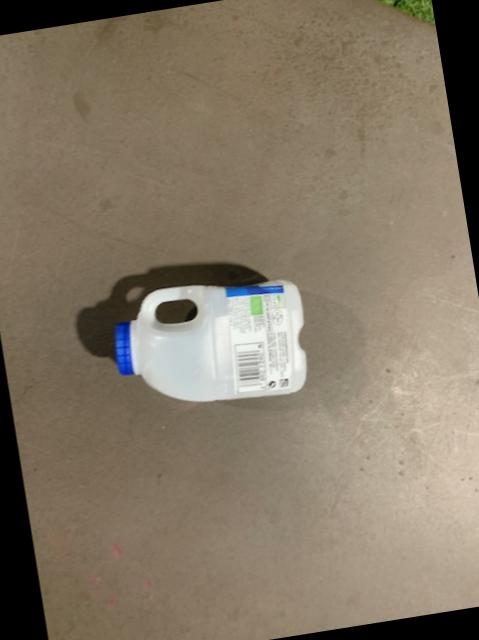plastic: (115, 278, 306, 398)
